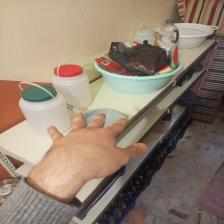five: (46, 110, 149, 179)
